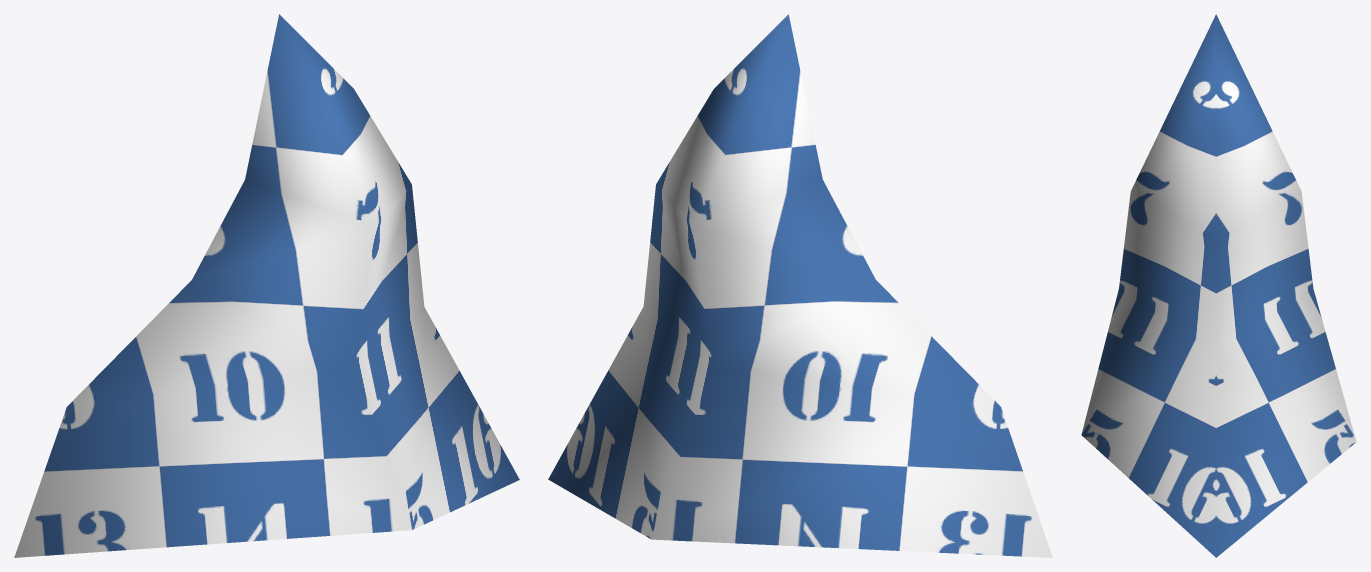
File: RuiDad_Thorn1.fbx
3 renders of one model, left to right at view 1: azimuth 30°, elevation 25°; view 2: azimuth 150°, elevation 25°; view 3: azimuth 270°, elevation 25°, orthographic. The views are drawn at different scales.
Parts seen in each view (by area): view 1: SM_e_Plc_P1009_Thorn001; view 2: SM_e_Plc_P1009_Thorn001; view 3: SM_e_Plc_P1009_Thorn001.
Boxes of the visible parts, bbox=[...] form: SM_e_Plc_P1009_Thorn001: bbox=[14, 14, 519, 557]; SM_e_Plc_P1009_Thorn001: bbox=[548, 14, 1052, 557]; SM_e_Plc_P1009_Thorn001: bbox=[1081, 14, 1356, 557].
Bounding box in the file's own units: 11.27 × 11.18 × 6.27.
1 material, 1 textured.
